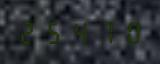five: (43, 20, 67, 44)
four: (68, 20, 92, 44)
seven: (93, 20, 117, 44)
two: (18, 20, 42, 44)
zero: (118, 20, 142, 44)
